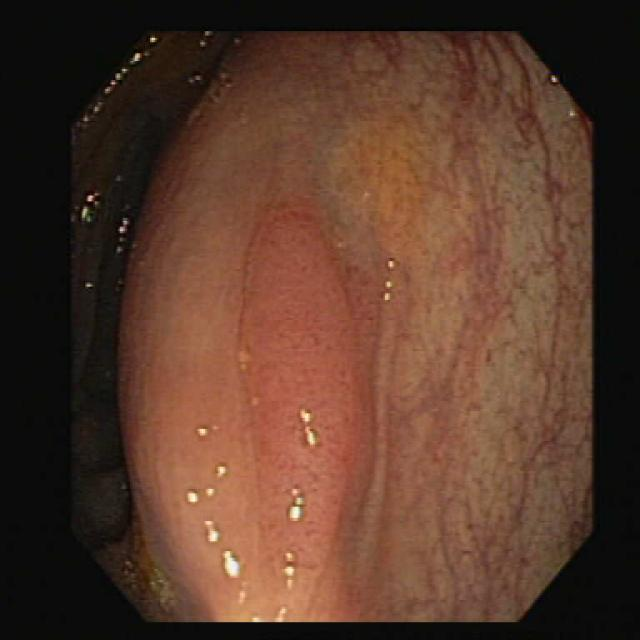tumor: (245, 211, 343, 576)
